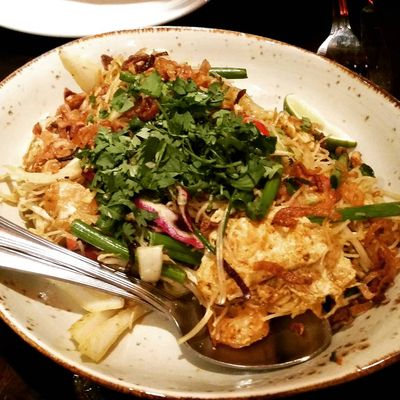burger: (0, 210, 205, 339)
curry: (71, 219, 130, 261)
